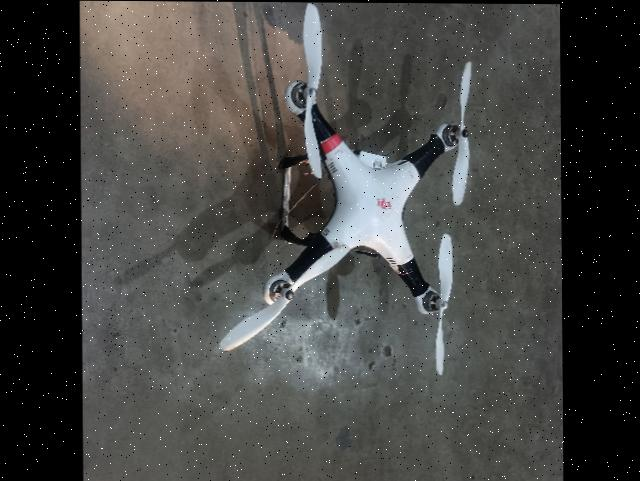drone: (202, 1, 487, 397)
